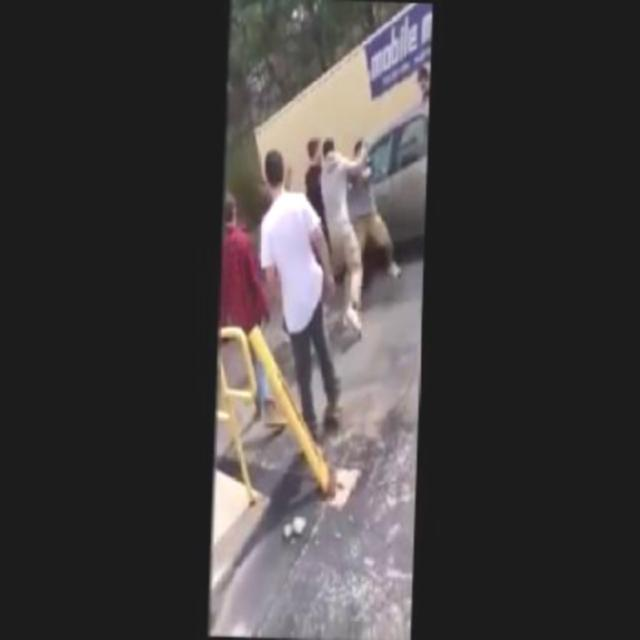fight: (316, 132, 402, 334)
